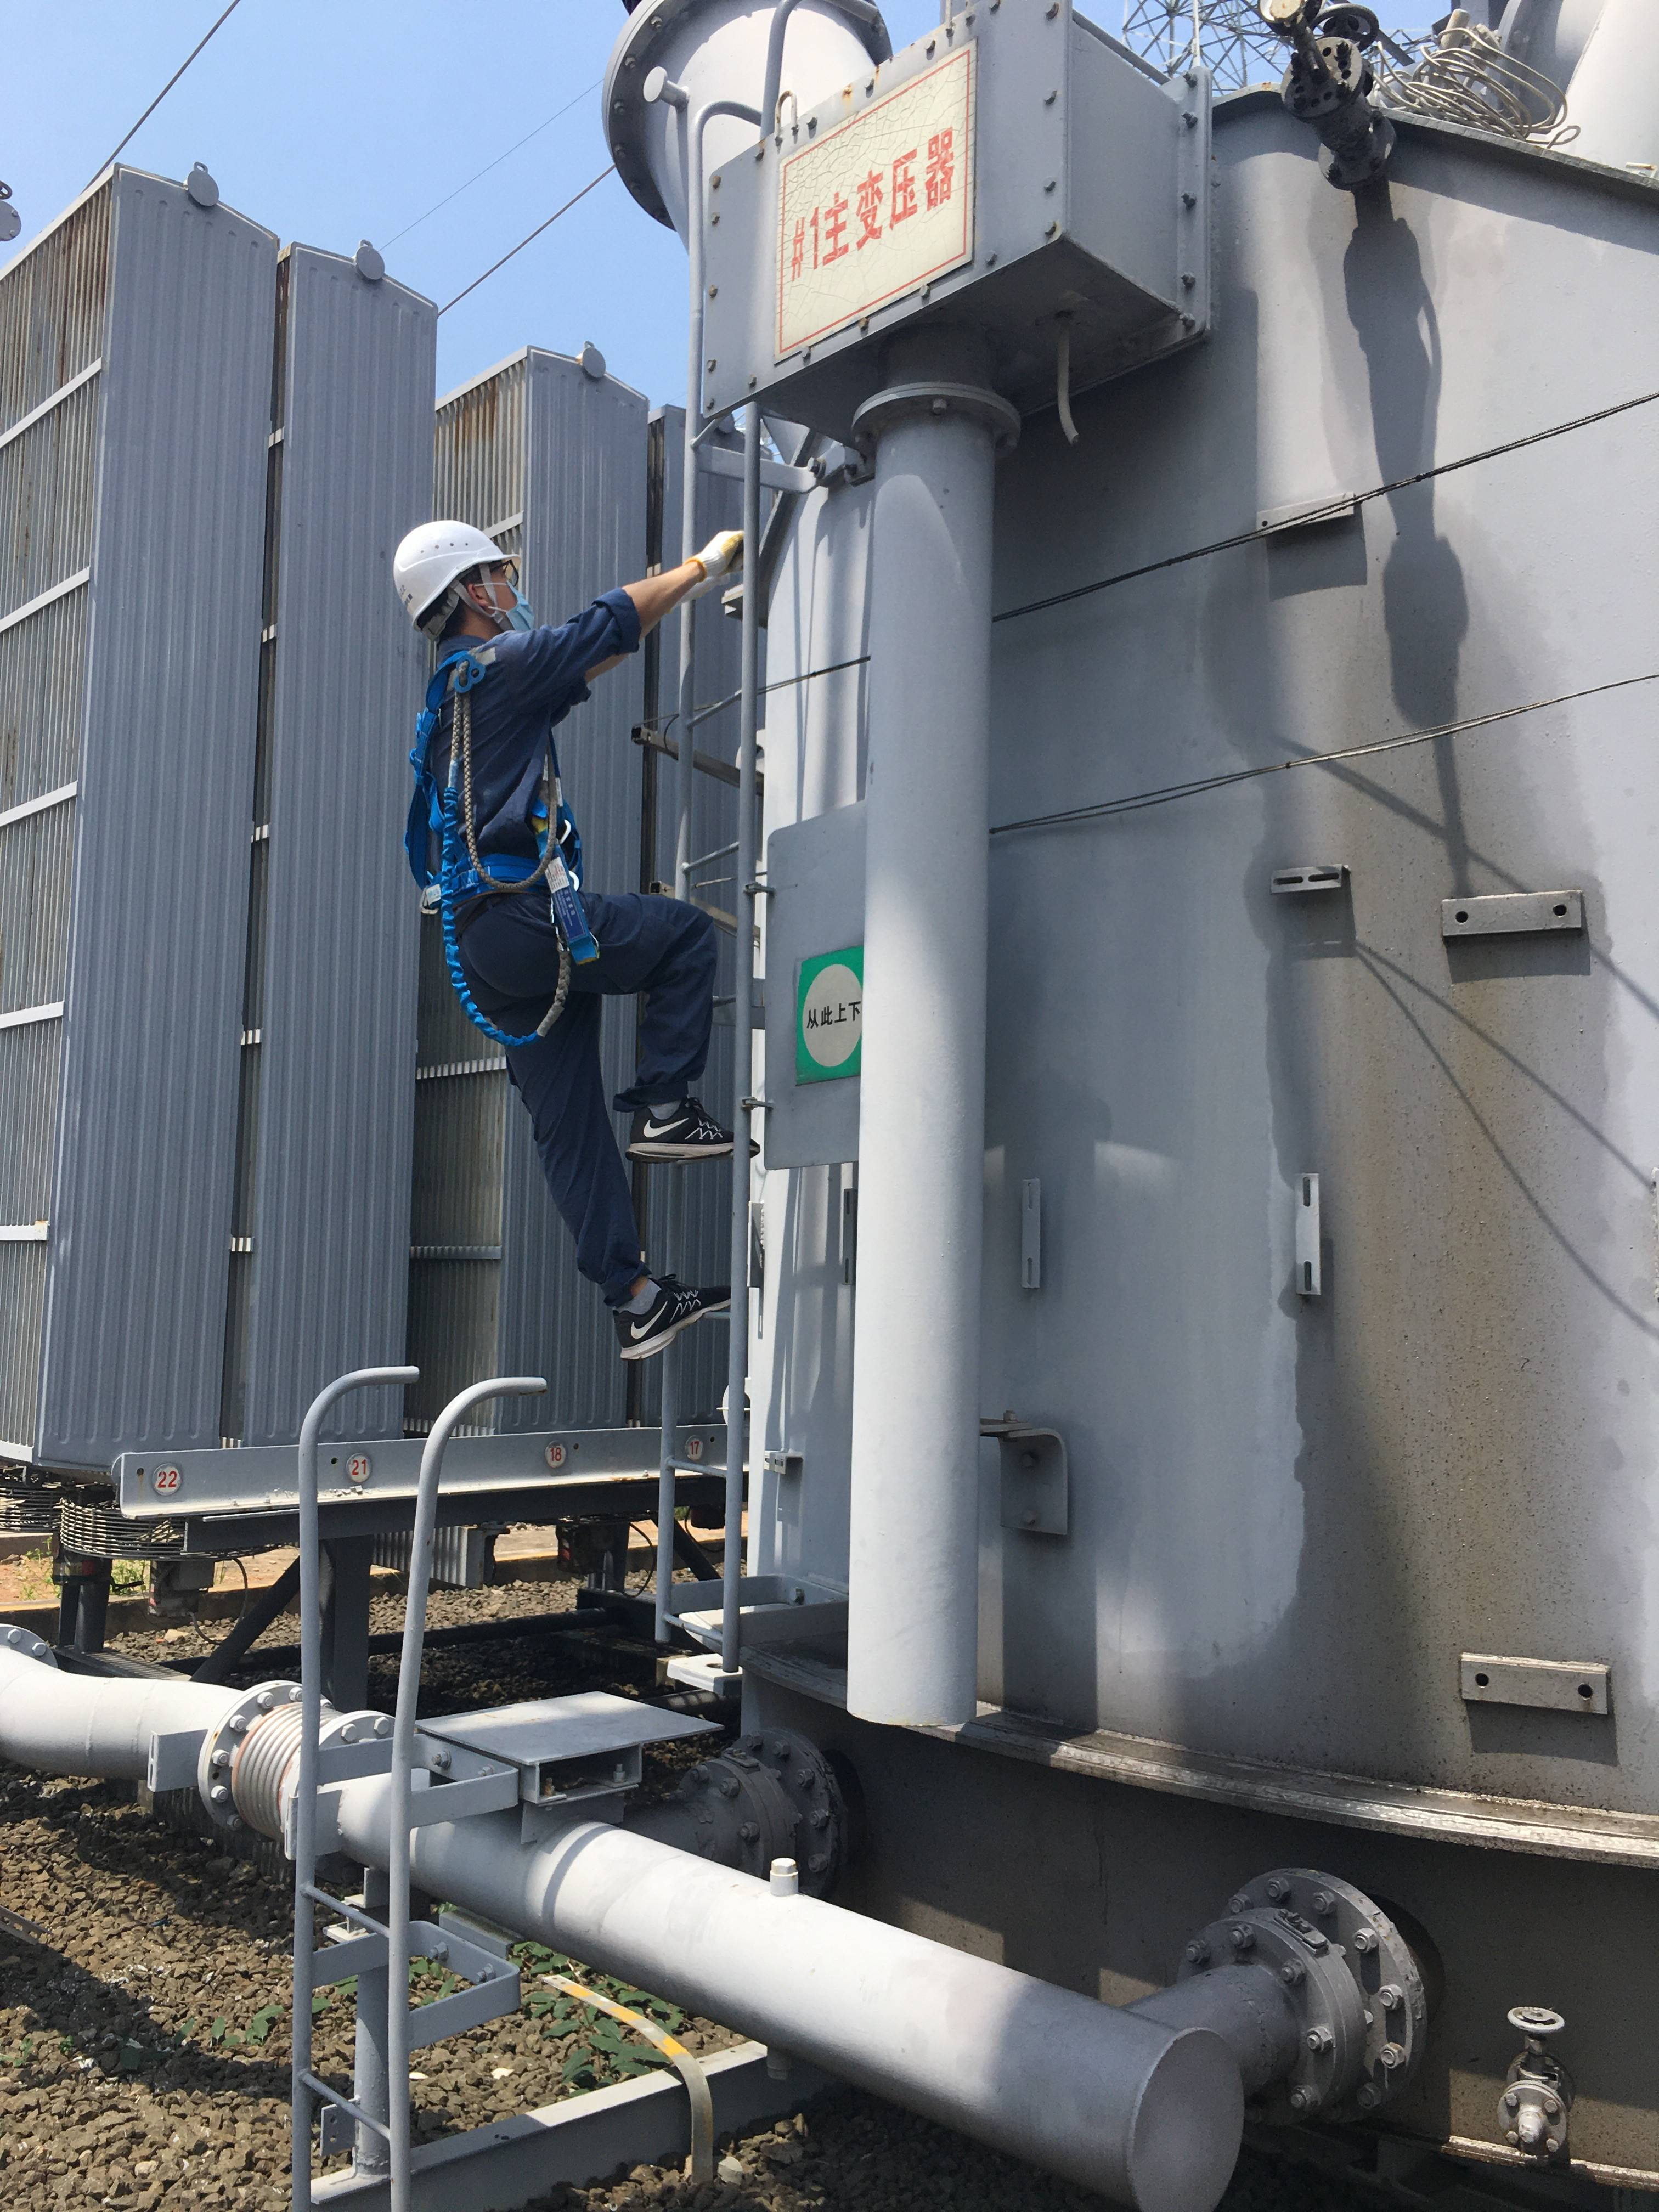downsuit: (453, 909, 702, 1301)
upsuit: (380, 596, 648, 892)
wrongtop: (613, 550, 732, 636)
